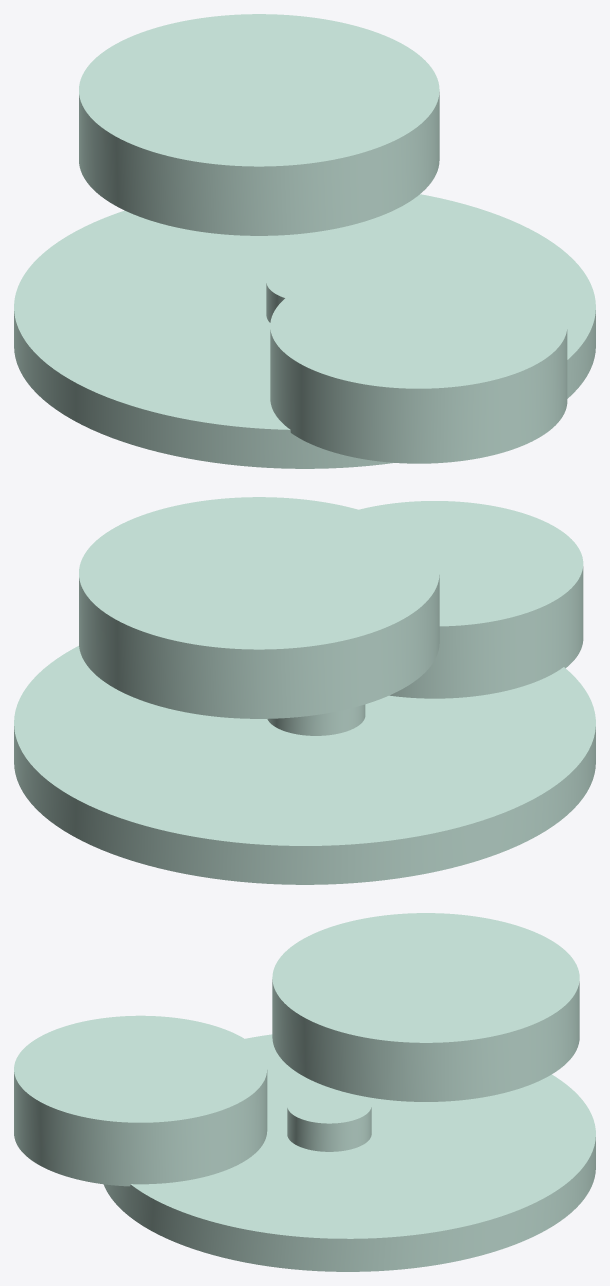
The picture shows the model from 3 angles, top to bottom: view 1: azimuth 30°, elevation 25°; view 2: azimuth 150°, elevation 25°; view 3: azimuth 270°, elevation 25°; orthographic projection. The views are drawn at different scales.
Visible parts, largest first — view 1: Renderer Node; view 2: Renderer Node; view 3: Renderer Node.
Part boxes in pixels (bbox=[...]): Renderer Node: bbox=[14, 14, 595, 468]; Renderer Node: bbox=[14, 497, 595, 884]; Renderer Node: bbox=[14, 913, 595, 1271].
Size of the model in its own units: 1.48 by 0.8438 by 1.74.
